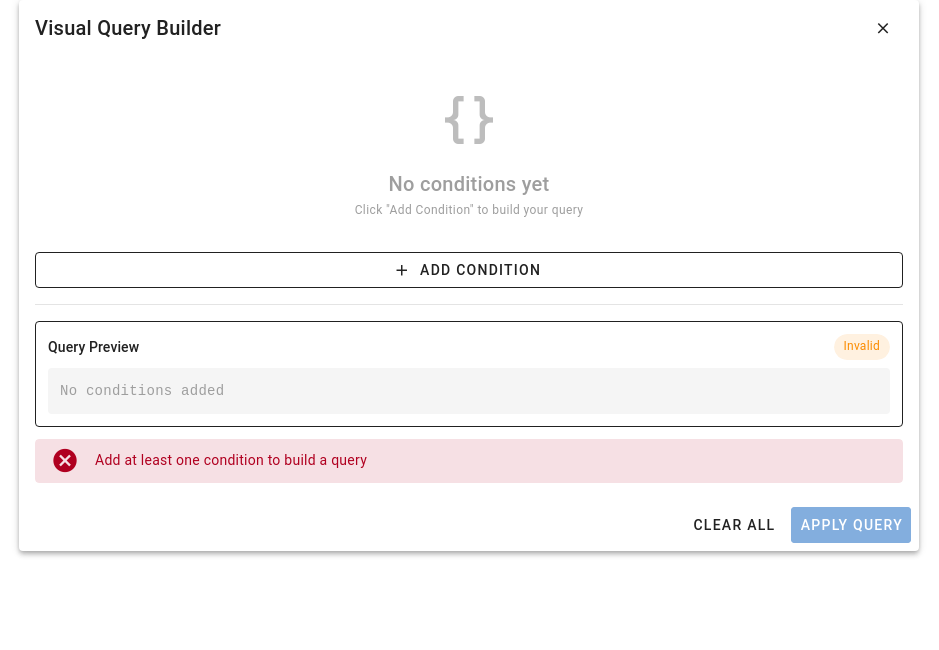
Test: QueryBuilder Component › Operator Selection › does not render operator selector for single condition
What coordinates should you click on to do the following:
click the button with test id "add-condition-btn"
I would click on:
 (469, 270)
Its box is left=35, top=252, right=903, bottom=288.
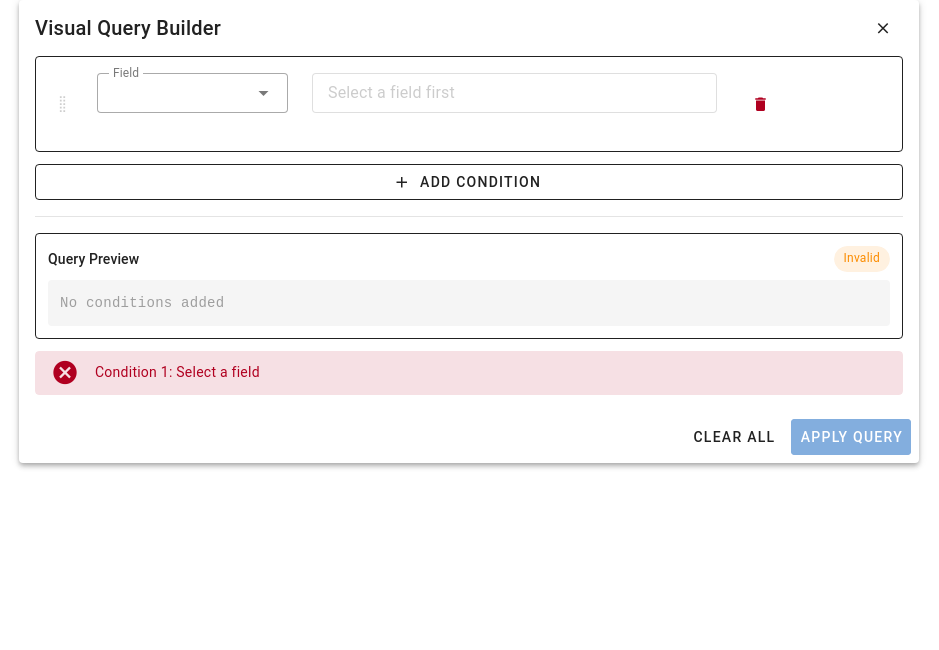
What coordinates should you click on to do the following:
click the button with test id "add-condition-btn"
I would click on:
 (469, 182)
Its box is left=35, top=164, right=903, bottom=200.
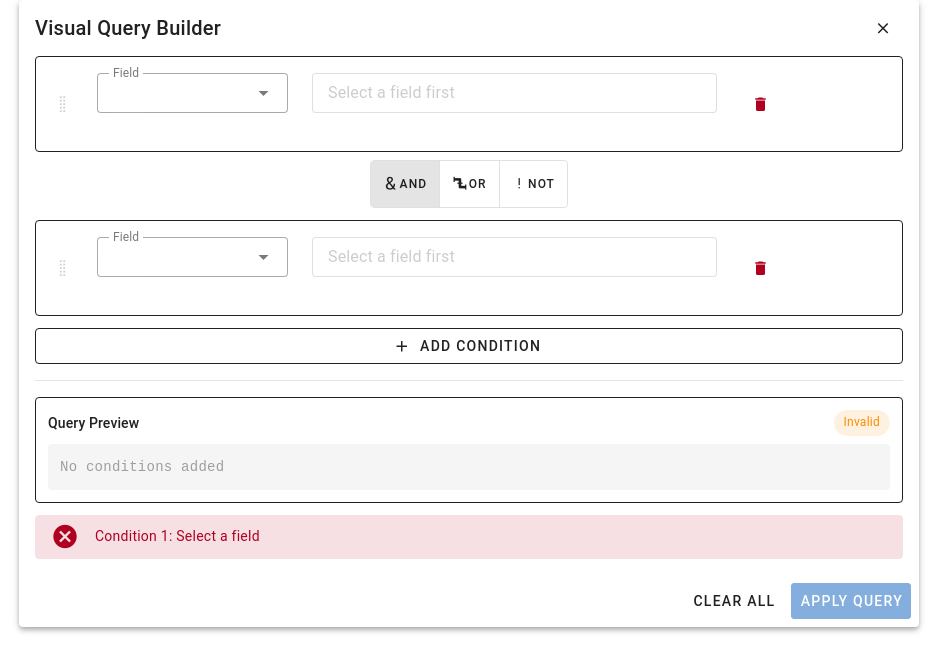
What coordinates should you click on to do the following:
click the 1st button with test id "remove-condition-btn"
I would click on:
 (760, 104)
Its box is left=740, top=84, right=780, bottom=124.
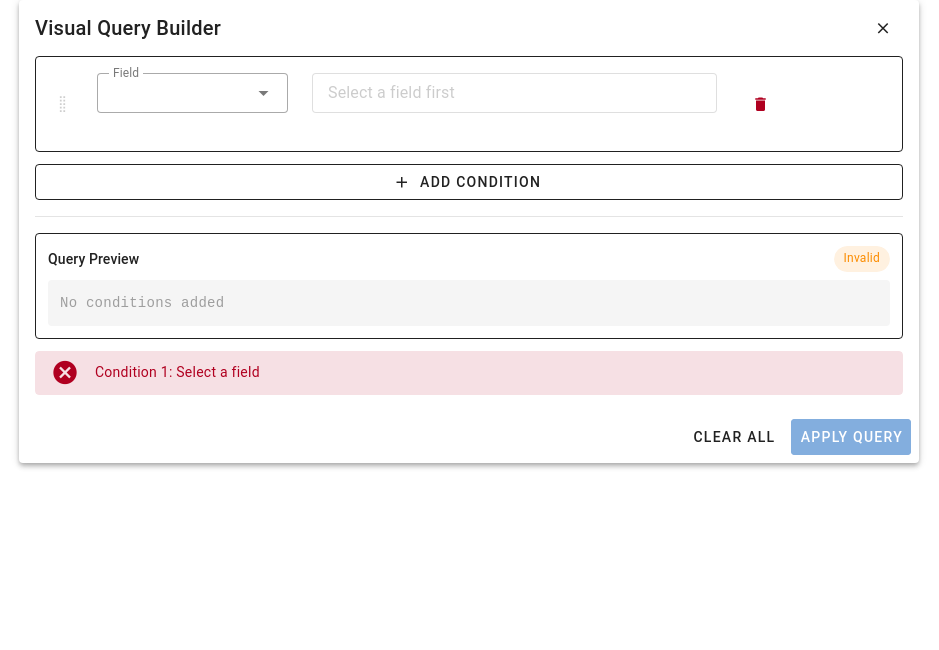
Expected: no buttons with test id "operator-select" are shown
